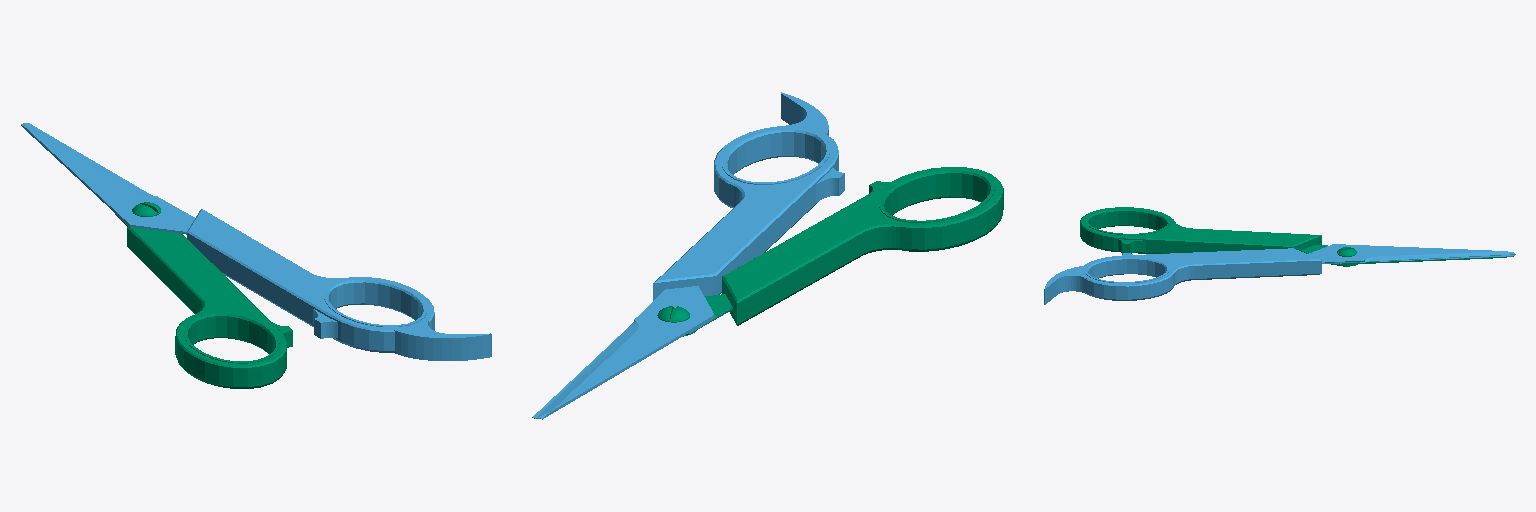
The robot description file, URDF, robot "partnet_4718097fc24742a5fe5aadc7ee33bd2f":
<?xml version="1.0" ?>
<robot name="partnet_4718097fc24742a5fe5aadc7ee33bd2f">
	<link name="base"/>
	<link name="link_0">
		<visual name="blade-9">
			<origin xyz="0.4573052951228195 0 -0.001575"/>
			<geometry>
				<mesh filename="textured_objs/new-1.obj"/>
			</geometry>
		</visual>
		<visual name="handle-10">
			<origin xyz="0.4573052951228195 0 -0.001575"/>
			<geometry>
				<mesh filename="textured_objs/original-23.obj"/>
			</geometry>
		</visual>
		<visual name="handle-10">
			<origin xyz="0.4573052951228195 0 -0.001575"/>
			<geometry>
				<mesh filename="textured_objs/original-24.obj"/>
			</geometry>
		</visual>
		<visual name="handle-10">
			<origin xyz="0.4573052951228195 0 -0.001575"/>
			<geometry>
				<mesh filename="textured_objs/original-25.obj"/>
			</geometry>
		</visual>
		<visual name="handle-10">
			<origin xyz="0.4573052951228195 0 -0.001575"/>
			<geometry>
				<mesh filename="textured_objs/original-21.obj"/>
			</geometry>
		</visual>
		<visual name="handle-10">
			<origin xyz="0.4573052951228195 0 -0.001575"/>
			<geometry>
				<mesh filename="textured_objs/original-26.obj"/>
			</geometry>
		</visual>
		<collision>
			<origin xyz="0.4573052951228195 0 -0.001575"/>
			<geometry>
				<mesh filename="textured_objs/new-1.obj"/>
			</geometry>
		</collision>
		<collision>
			<origin xyz="0.4573052951228195 0 -0.001575"/>
			<geometry>
				<mesh filename="textured_objs/original-23.obj"/>
			</geometry>
		</collision>
		<collision>
			<origin xyz="0.4573052951228195 0 -0.001575"/>
			<geometry>
				<mesh filename="textured_objs/original-24.obj"/>
			</geometry>
		</collision>
		<collision>
			<origin xyz="0.4573052951228195 0 -0.001575"/>
			<geometry>
				<mesh filename="textured_objs/original-25.obj"/>
			</geometry>
		</collision>
		<collision>
			<origin xyz="0.4573052951228195 0 -0.001575"/>
			<geometry>
				<mesh filename="textured_objs/original-21.obj"/>
			</geometry>
		</collision>
		<collision>
			<origin xyz="0.4573052951228195 0 -0.001575"/>
			<geometry>
				<mesh filename="textured_objs/original-26.obj"/>
			</geometry>
		</collision>
	</link>
	<joint name="joint_0" type="revolute">
		<origin xyz="-0.4573052951228195 0 0.001575"/>
		<axis xyz="0 1 0"/>
		<child link="link_0"/>
		<parent link="link_1"/>
		<limit lower="0.0" upper="1.0053096491487339"/>
	</joint>
	<link name="link_1">
		<visual name="screw-3">
			<origin xyz="0 0 0"/>
			<geometry>
				<mesh filename="textured_objs/original-3.obj"/>
			</geometry>
		</visual>
		<visual name="screw-3">
			<origin xyz="0 0 0"/>
			<geometry>
				<mesh filename="textured_objs/original-2.obj"/>
			</geometry>
		</visual>
		<visual name="blade-11">
			<origin xyz="0 0 0"/>
			<geometry>
				<mesh filename="textured_objs/new-0.obj"/>
			</geometry>
		</visual>
		<visual name="handle-12">
			<origin xyz="0 0 0"/>
			<geometry>
				<mesh filename="textured_objs/original-28.obj"/>
			</geometry>
		</visual>
		<visual name="handle-12">
			<origin xyz="0 0 0"/>
			<geometry>
				<mesh filename="textured_objs/original-30.obj"/>
			</geometry>
		</visual>
		<visual name="handle-12">
			<origin xyz="0 0 0"/>
			<geometry>
				<mesh filename="textured_objs/original-31.obj"/>
			</geometry>
		</visual>
		<visual name="handle-12">
			<origin xyz="0 0 0"/>
			<geometry>
				<mesh filename="textured_objs/original-29.obj"/>
			</geometry>
		</visual>
		<collision>
			<origin xyz="0 0 0"/>
			<geometry>
				<mesh filename="textured_objs/original-3.obj"/>
			</geometry>
		</collision>
		<collision>
			<origin xyz="0 0 0"/>
			<geometry>
				<mesh filename="textured_objs/original-2.obj"/>
			</geometry>
		</collision>
		<collision>
			<origin xyz="0 0 0"/>
			<geometry>
				<mesh filename="textured_objs/new-0.obj"/>
			</geometry>
		</collision>
		<collision>
			<origin xyz="0 0 0"/>
			<geometry>
				<mesh filename="textured_objs/original-28.obj"/>
			</geometry>
		</collision>
		<collision>
			<origin xyz="0 0 0"/>
			<geometry>
				<mesh filename="textured_objs/original-30.obj"/>
			</geometry>
		</collision>
		<collision>
			<origin xyz="0 0 0"/>
			<geometry>
				<mesh filename="textured_objs/original-31.obj"/>
			</geometry>
		</collision>
		<collision>
			<origin xyz="0 0 0"/>
			<geometry>
				<mesh filename="textured_objs/original-29.obj"/>
			</geometry>
		</collision>
	</link>
	<joint name="joint_1" type="fixed">
		<origin rpy="1.570796326794897 0 -1.570796326794897" xyz="0 0 0"/>
		<child link="link_1"/>
		<parent link="base"/>
	</joint>
</robot>

--- Render facts (derived) ---
3 views of the same robot in one strip: view 1: azimuth 30°, elevation 25°; view 2: azimuth 150°, elevation 25°; view 3: azimuth 270°, elevation 25° (orthographic).
Robot: partnet_4718097fc24742a5fe5aadc7ee33bd2f — 3 links, 2 joints (1 revolute, 1 fixed); root link base; default pose: every joint at zero.
Links seen in each view (by area): view 1: link_0, link_1; view 2: link_0, link_1; view 3: link_0, link_1.
Link boxes in pixels (box(x1,y1,x2,y2)): link_0: box(21, 123, 491, 360); link_1: box(121, 202, 292, 388); link_0: box(532, 92, 844, 419); link_1: box(634, 167, 1003, 336); link_0: box(1044, 244, 1515, 304); link_1: box(1080, 207, 1513, 266).
Bounding box of the posed robot: 0.6537 × 1.58 × 0.062 m (x, y, z).
Meshes: 13 distinct files referenced, 13 mesh visuals loaded (13 OBJ).
